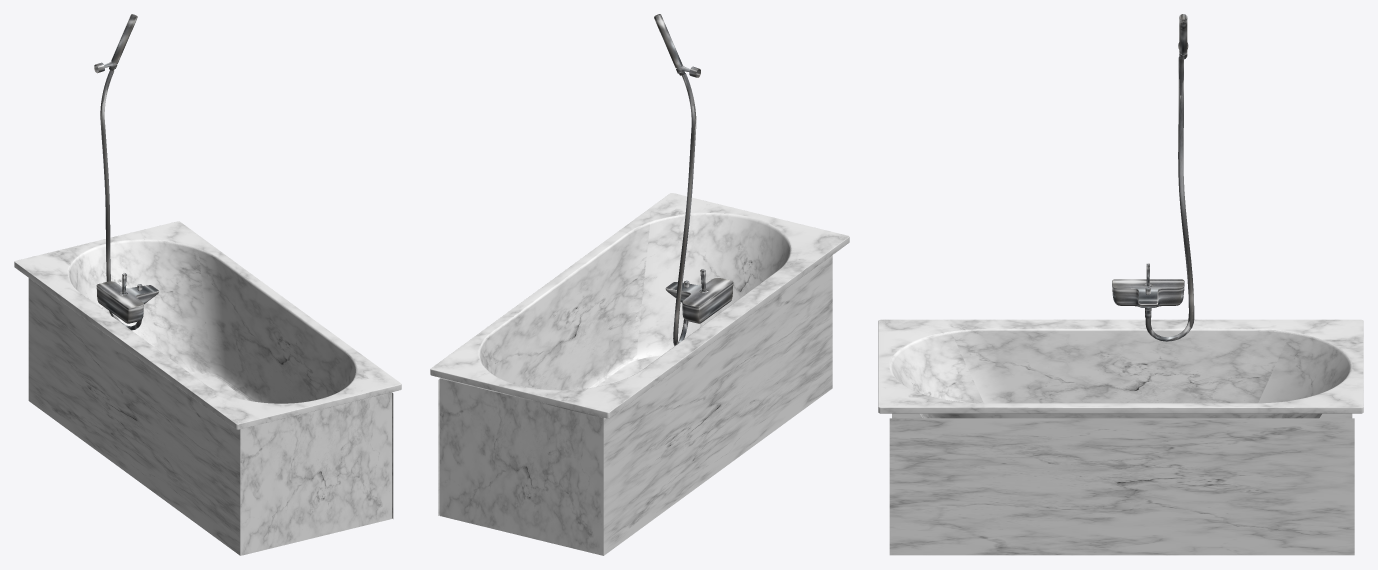
File: Tina.obj
3 views of the same model, side by side, from view 1: azimuth 30°, elevation 25°; view 2: azimuth 150°, elevation 25°; view 3: azimuth 270°, elevation 25° (orthographic). The views are drawn at different scales.
Visible parts, largest first — view 1: Krano_cromas, Vonios_keramika, manguera, Krano_aliuminis; view 2: Krano_cromas, Vonios_keramika, manguera, Krano_aliuminis; view 3: Krano_cromas, Vonios_keramika, manguera, Krano_aliuminis.
Boxes of the visible parts, <box> form: Krano_cromas: <box>28,278,393,555</box>; Vonios_keramika: <box>14,221,401,429</box>; manguera: <box>94,14,159,323</box>; Krano_aliuminis: <box>100,22,141,330</box>; Krano_cromas: <box>438,255,832,555</box>; Vonios_keramika: <box>430,193,849,418</box>; manguera: <box>654,14,733,323</box>; Krano_aliuminis: <box>655,20,696,345</box>; Krano_cromas: <box>889,413,1354,555</box>; Vonios_keramika: <box>878,319,1363,418</box>; manguera: <box>1112,14,1188,318</box>; Krano_aliuminis: <box>1145,21,1194,341</box>.
Size of the model in its own units: 26.23 by 65.96 by 61.06.
2 materials, 2 textured.
